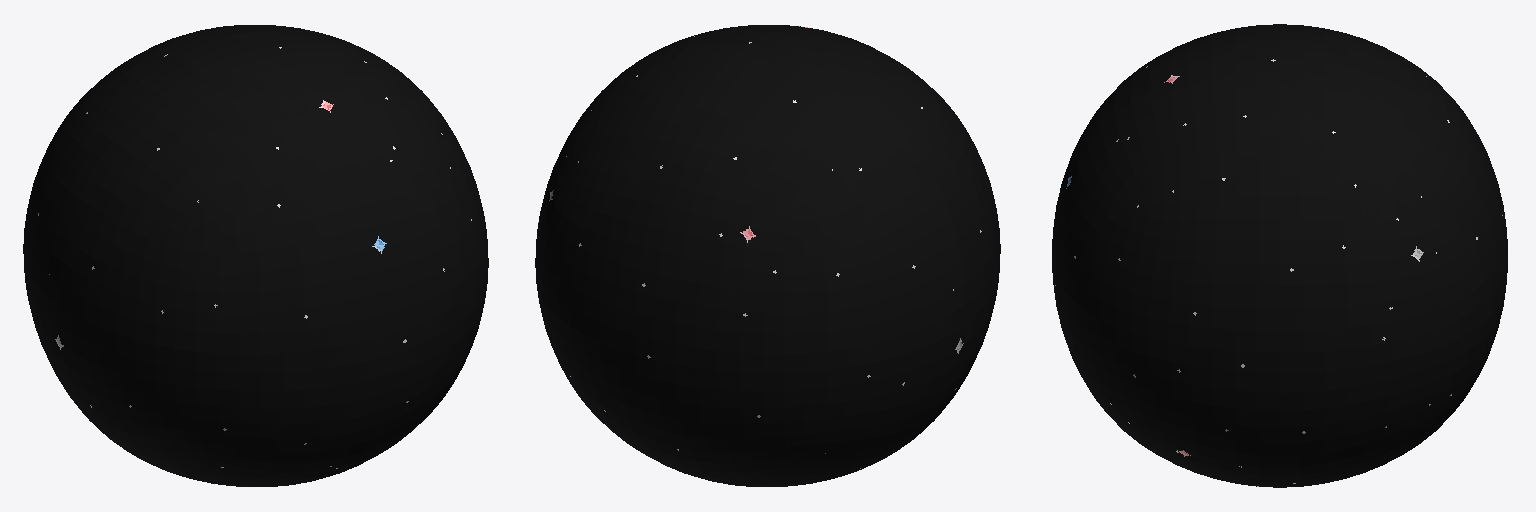
3 renders of one model, left to right at view 1: azimuth 30°, elevation 25°; view 2: azimuth 150°, elevation 25°; view 3: azimuth 270°, elevation 25°, orthographic.
Parts seen in each view (by area): view 1: 立方体; view 2: 立方体; view 3: 立方体.
Boxes of the visible parts, x1,y1,x2,y2 form: 立方体: [23, 25, 488, 486]; 立方体: [535, 25, 1000, 486]; 立方体: [1052, 24, 1507, 487].
Bounding box in the file's own units: 1.68 × 1.68 × 1.68.
Materials: 1 (1 with a texture image).